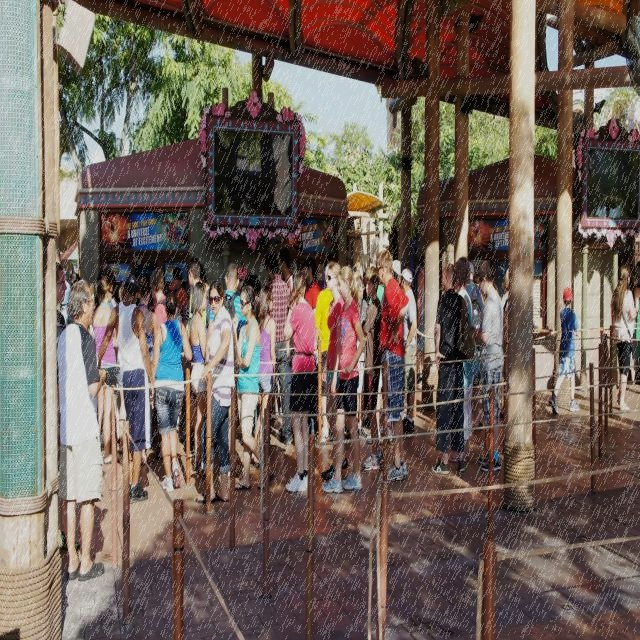pessoa: (50, 273, 111, 586), (98, 272, 156, 505), (321, 263, 366, 496), (370, 246, 412, 484), (147, 290, 195, 493), (194, 278, 236, 506), (431, 264, 467, 474), (283, 271, 316, 493), (472, 258, 505, 474), (148, 268, 184, 462), (447, 257, 480, 464), (320, 260, 350, 480), (231, 284, 262, 492), (264, 249, 295, 446), (356, 264, 384, 474), (547, 284, 586, 417), (250, 285, 278, 467), (92, 276, 118, 467), (608, 262, 636, 416), (461, 260, 511, 341), (188, 280, 208, 477), (314, 260, 333, 442), (350, 276, 370, 438), (398, 268, 417, 433), (208, 262, 248, 326), (362, 367, 394, 445), (158, 262, 192, 328), (135, 276, 158, 366), (185, 256, 208, 341), (344, 270, 388, 312), (86, 267, 126, 313), (55, 268, 83, 326), (628, 266, 640, 386), (276, 246, 296, 316), (416, 254, 426, 391), (234, 264, 264, 302), (302, 257, 322, 311), (56, 261, 68, 341), (150, 412, 164, 460), (176, 407, 194, 444), (306, 414, 318, 441), (392, 258, 404, 284), (197, 262, 209, 286), (342, 423, 353, 440), (326, 424, 334, 440), (237, 418, 242, 436)
